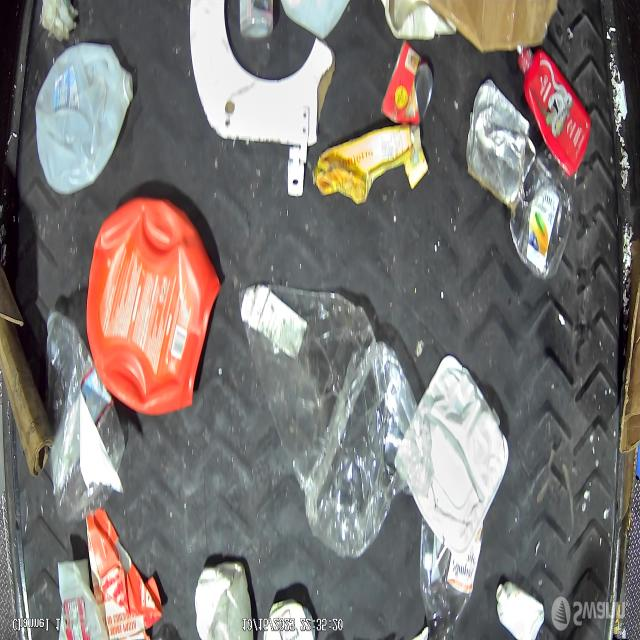can: (382, 42, 433, 126)
milk_jug: (32, 41, 136, 193)
non_white_jug: (86, 196, 221, 416)
plastic_bottle: (238, 283, 432, 562), (45, 312, 125, 522), (510, 153, 572, 281), (419, 518, 483, 640), (238, 0, 275, 41)
